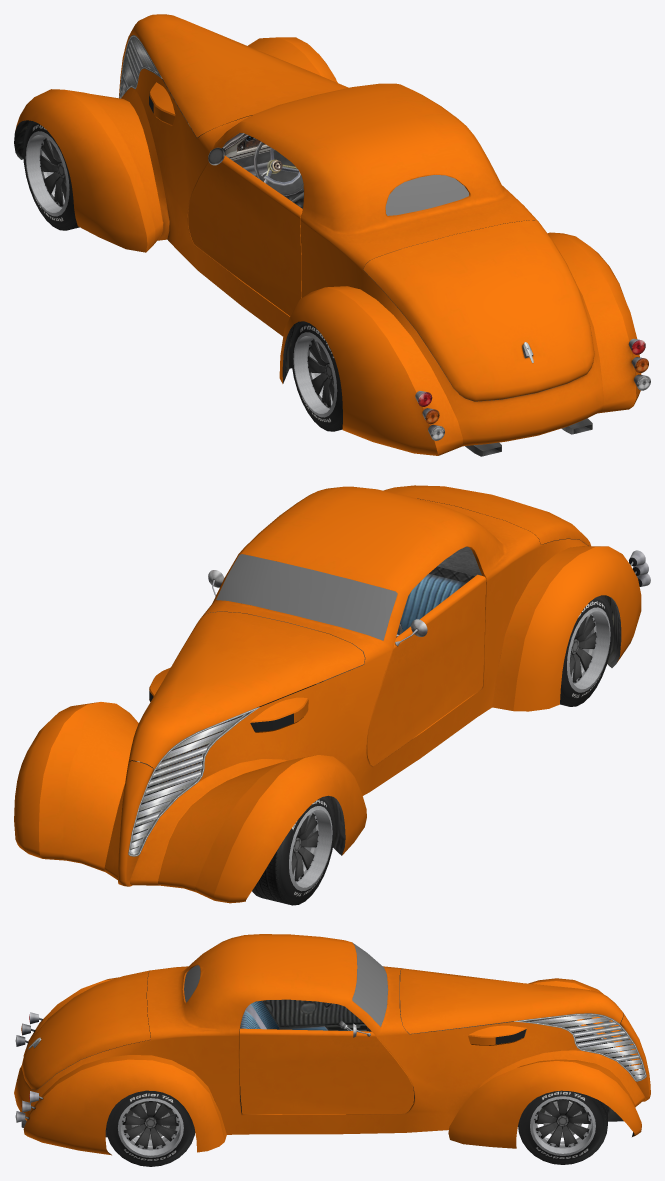
3 views of the same model, one above another, from view 1: azimuth 30°, elevation 25°; view 2: azimuth 150°, elevation 25°; view 3: azimuth 270°, elevation 25° (orthographic). The views are drawn at different scales.
Parts seen in each view (by area): view 1: Body_LOD1, Trunk_LOD1, Hood_LOD1, Door_left_LOD1, Wheel_LR_LOD1, Wheel_LF_LOD1, Glass_LOD1, Interior_LOD1, SteeringWheel_LOD1; view 2: Body_LOD1, Hood_LOD1, Door_left_LOD1, Glass_LOD1, Wheel_LF_LOD1, Wheel_LR_LOD1, Trunk_LOD1, Interior_LOD1; view 3: Body_LOD1, Door_right_LOD1, Hood_LOD1, Trunk_LOD1, Wheel_RF_LOD1, Wheel_RR_LOD1, Glass_LOD1, Door_left_LOD1, Interior_LOD1.
Boxes of the visible parts, x1,y1,x2,y2 form: Body_LOD1: (14, 35, 650, 456); Trunk_LOD1: (363, 220, 594, 401); Hood_LOD1: (128, 14, 348, 137); Door_left_LOD1: (188, 147, 302, 315); Wheel_LR_LOD1: (290, 321, 342, 431); Wheel_LF_LOD1: (23, 120, 79, 230); Glass_LOD1: (149, 93, 468, 215); Interior_LOD1: (222, 133, 303, 208); SteeringWheel_LOD1: (254, 141, 303, 196); Body_LOD1: (14, 486, 650, 903); Hood_LOD1: (128, 611, 364, 769); Door_left_LOD1: (366, 574, 486, 765); Glass_LOD1: (149, 554, 397, 732); Wheel_LF_LOD1: (252, 796, 335, 905); Wheel_LR_LOD1: (560, 595, 613, 706); Trunk_LOD1: (384, 485, 590, 546); Interior_LOD1: (397, 546, 482, 634); Body_LOD1: (14, 934, 650, 1155); Door_right_LOD1: (239, 1023, 414, 1114); Hood_LOD1: (400, 968, 623, 1033); Trunk_LOD1: (21, 970, 150, 1089); Wheel_RF_LOD1: (518, 1090, 607, 1164); Wheel_RR_LOD1: (106, 1090, 195, 1166); Glass_LOD1: (184, 942, 525, 1044); Door_left_LOD1: (263, 999, 366, 1031); Interior_LOD1: (239, 1000, 414, 1112).
Bounding box in the file's own units: 256 × 190 × 668.
13 materials, 13 textured.
